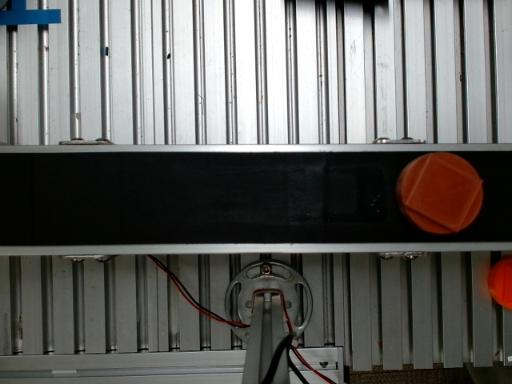Brown_Waper: (397, 152, 483, 233)
Square: (404, 153, 483, 232)
